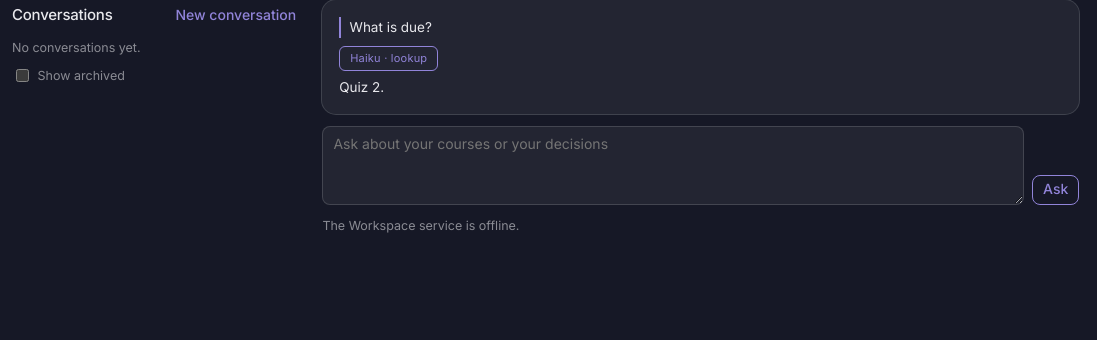
Test case: the composer › says the conversation is still answering when the database refuses a second question (23505, the backstop)
expect the text "Quiz 2." is shown: met, box [339,79,384,95]
expect the button "Ask" is shown: met, box [1032,175,1079,205]
Type "and next week?" into the text box named "Question" at (673, 165), box [322,126,1024,205]
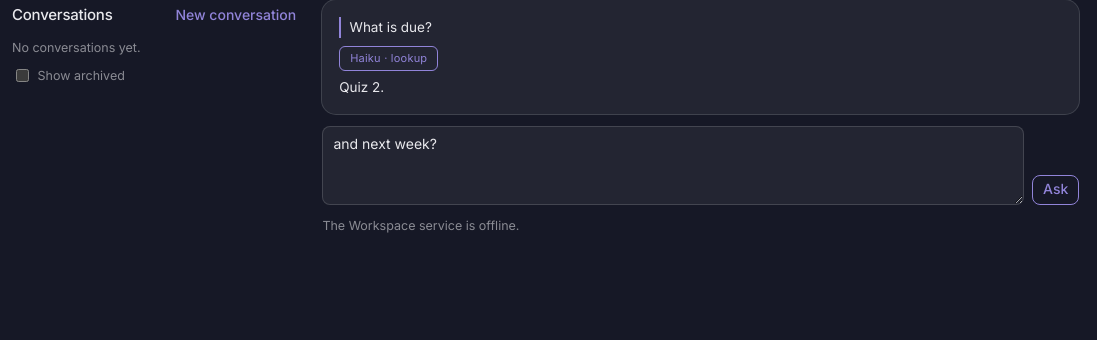
Press Enter in the text box named "Question", box [322,126,1024,205]
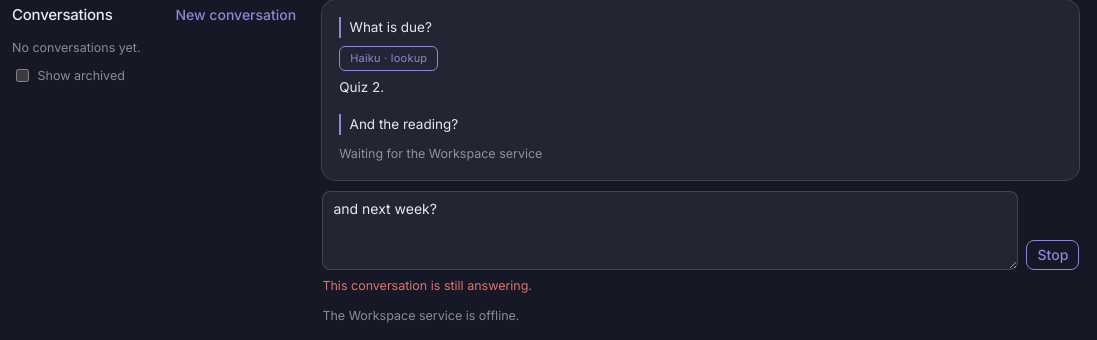
expect the text "This conversation is still answering." is shown: met, box [322,278,532,293]
expect the button "Stop" is shown: met, box [1026,240,1080,270]
